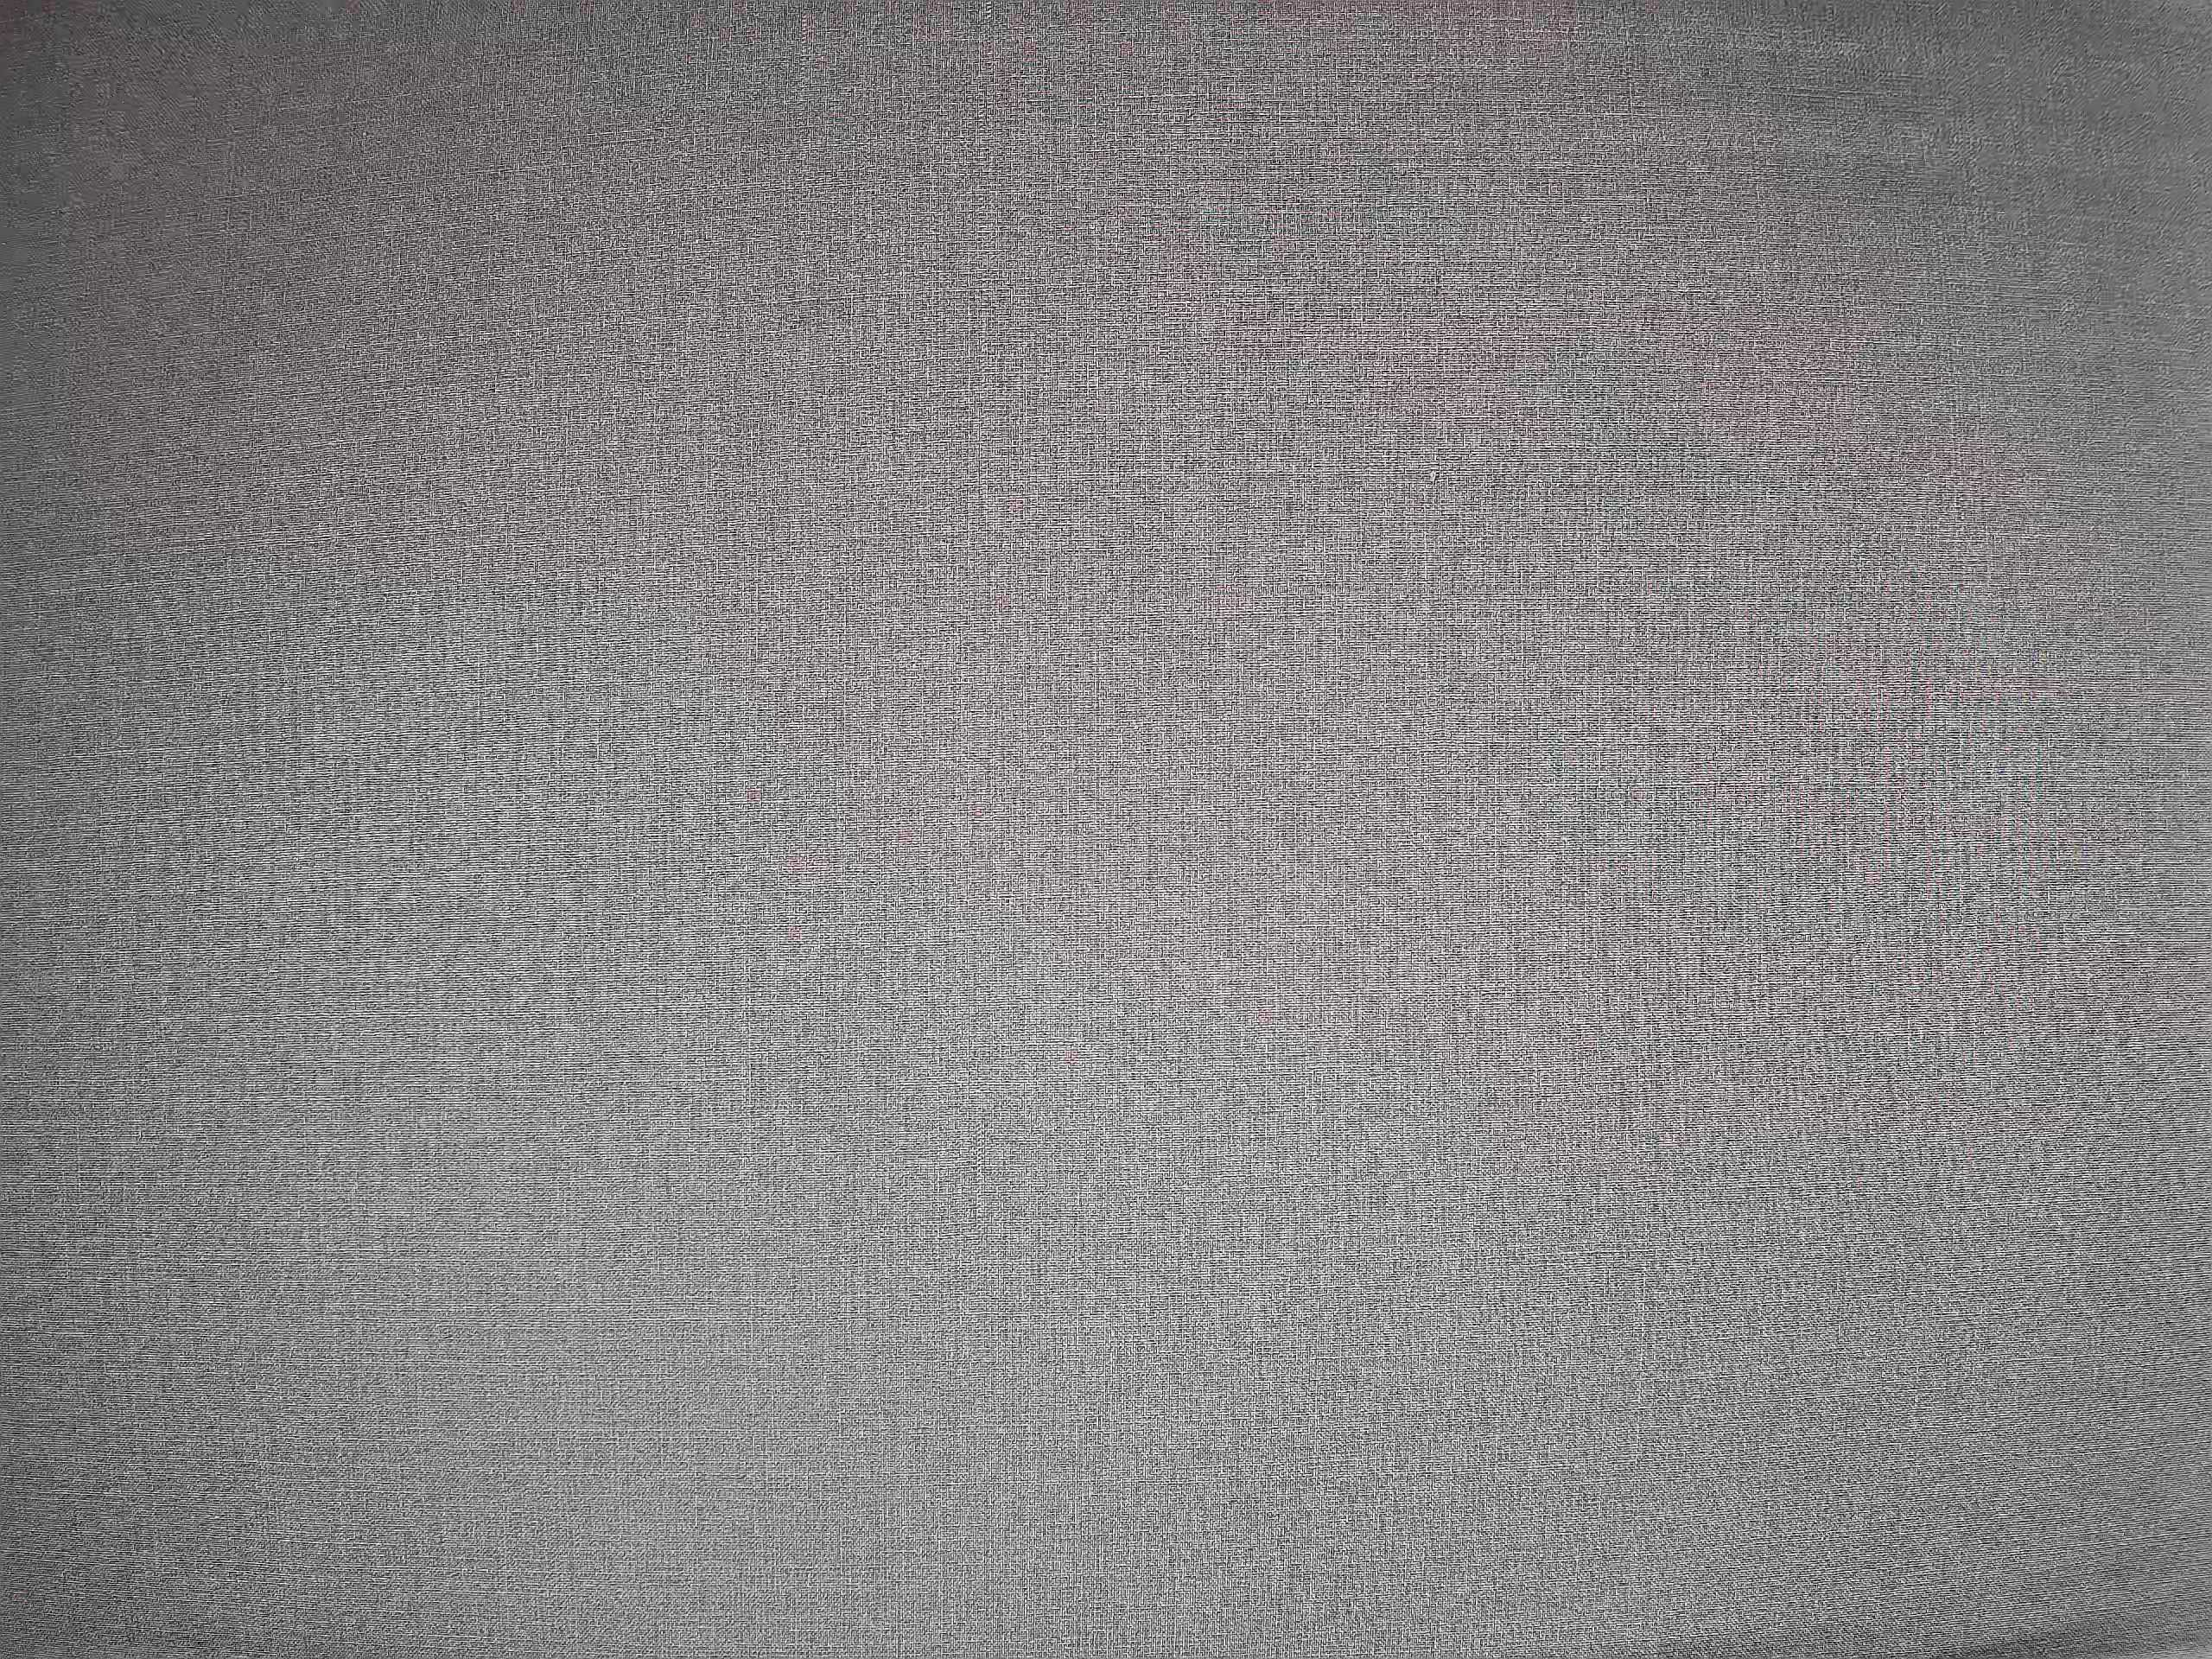hanging-warp: (956, 3, 1021, 469)
